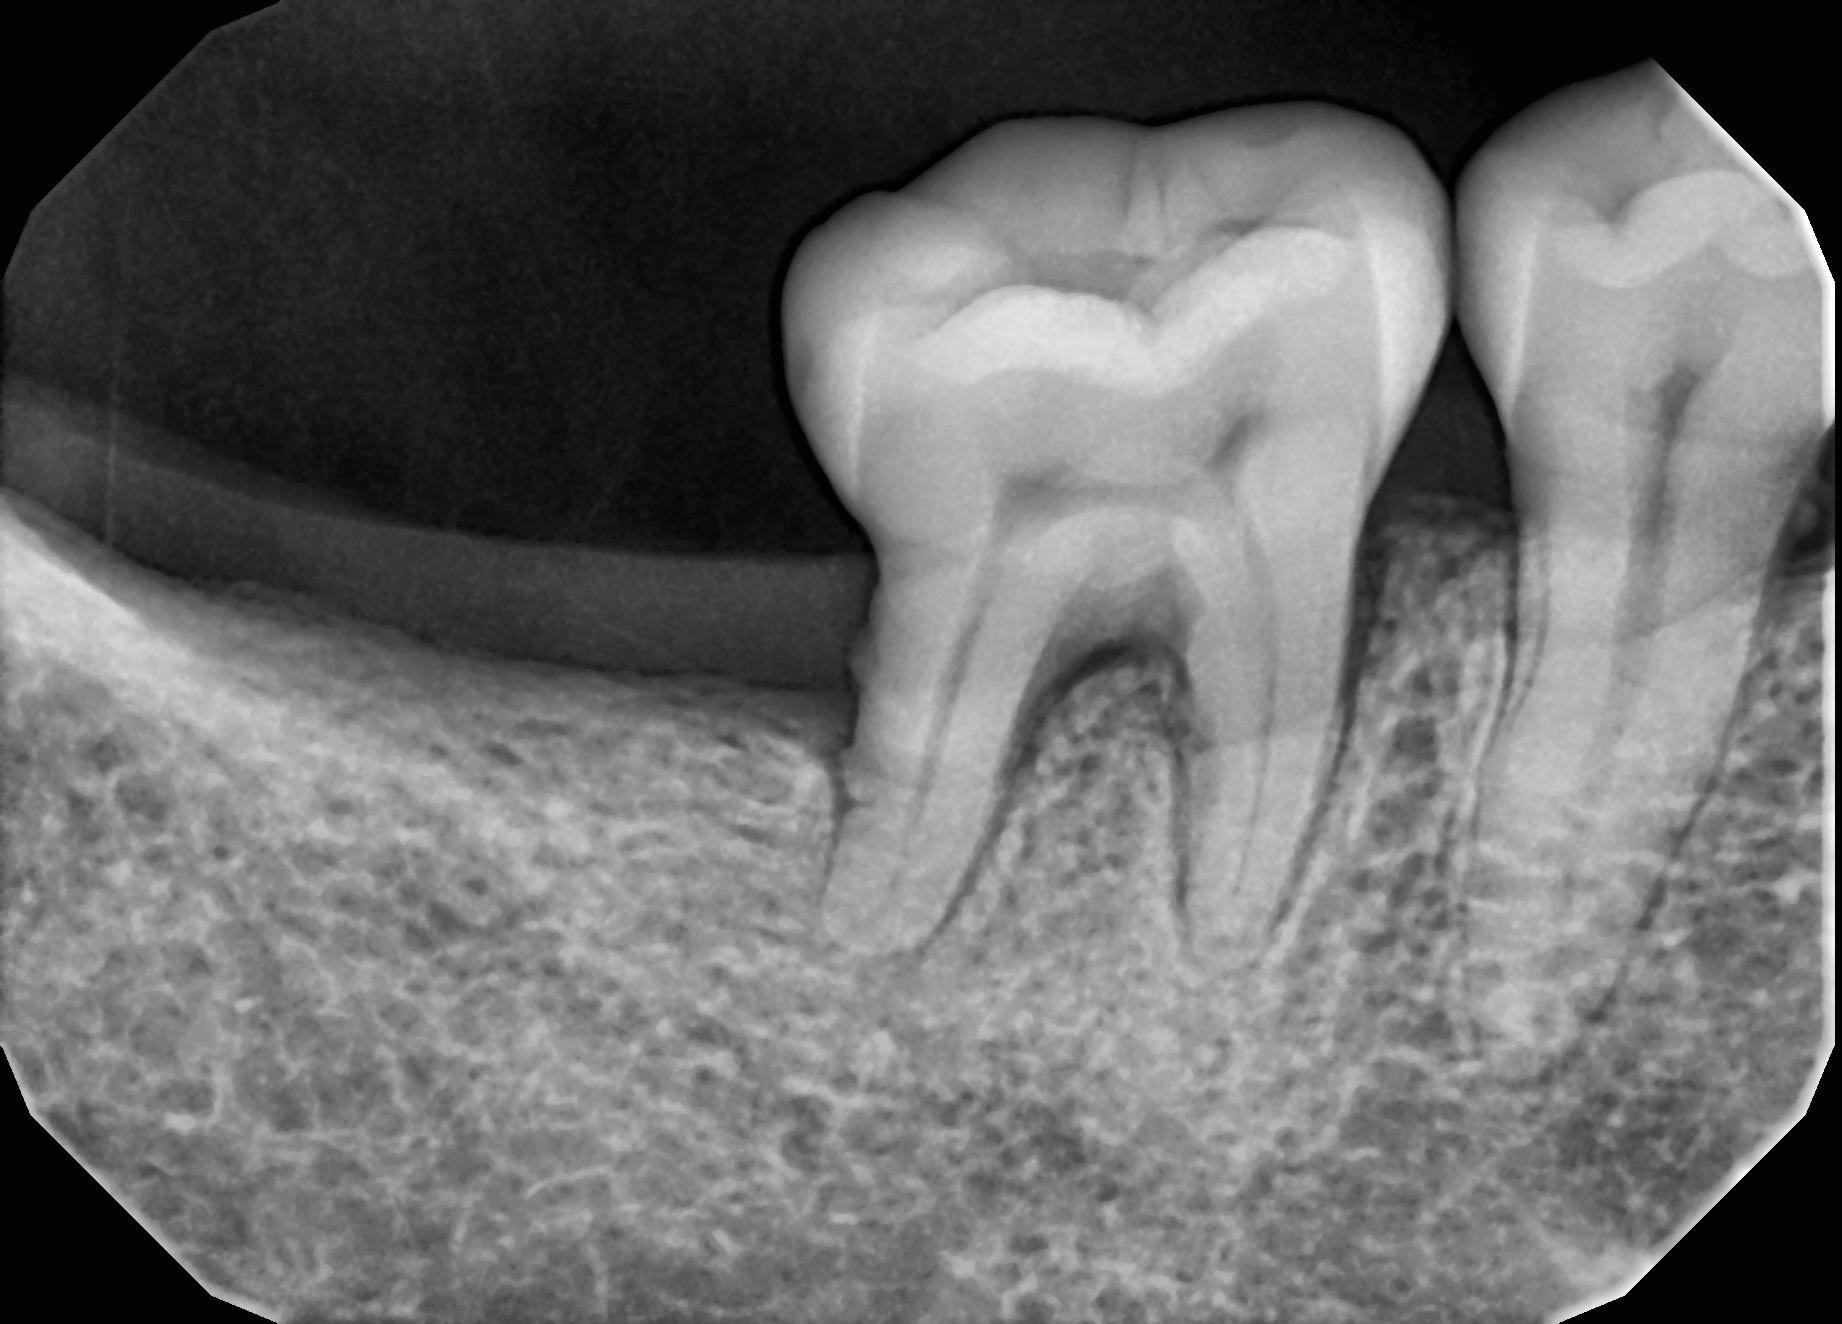Individual Tooth: (784, 104, 1452, 970), (1451, 65, 1838, 1082)
